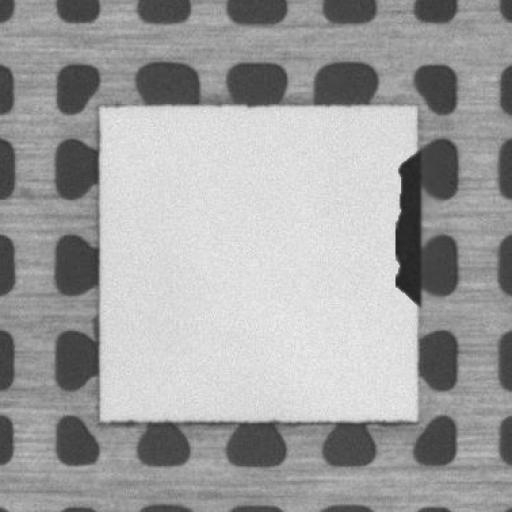DIE_BROKEN: (390, 151, 423, 304)
